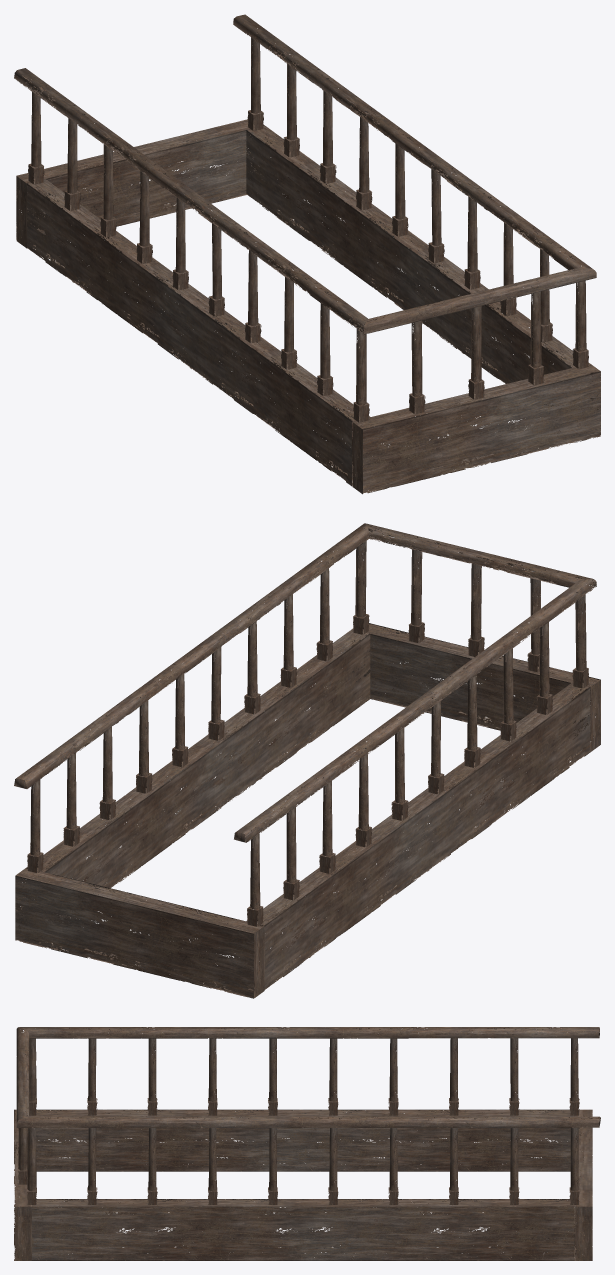
Rendered from SM_stairs_part_01.fbx.
3 renders of one model, top to bottom at view 1: azimuth 30°, elevation 25°; view 2: azimuth 150°, elevation 25°; view 3: azimuth 270°, elevation 25°, orthographic. The views are drawn at different scales.
Visible parts, largest first — view 1: SM_stairs_part_01_LOD0; view 2: SM_stairs_part_01_LOD0; view 3: SM_stairs_part_01_LOD0.
Part boxes in pixels (x1,y1,x2,y2): SM_stairs_part_01_LOD0: (14, 14, 600, 494); SM_stairs_part_01_LOD0: (14, 523, 600, 998); SM_stairs_part_01_LOD0: (14, 1027, 600, 1260).
Bounding box in the file's own units: 230 × 588 × 154.
Materials: 1 (1 with a texture image).
